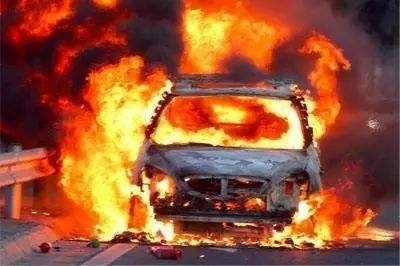fire: (23, 15, 355, 240), (175, 2, 291, 76)
